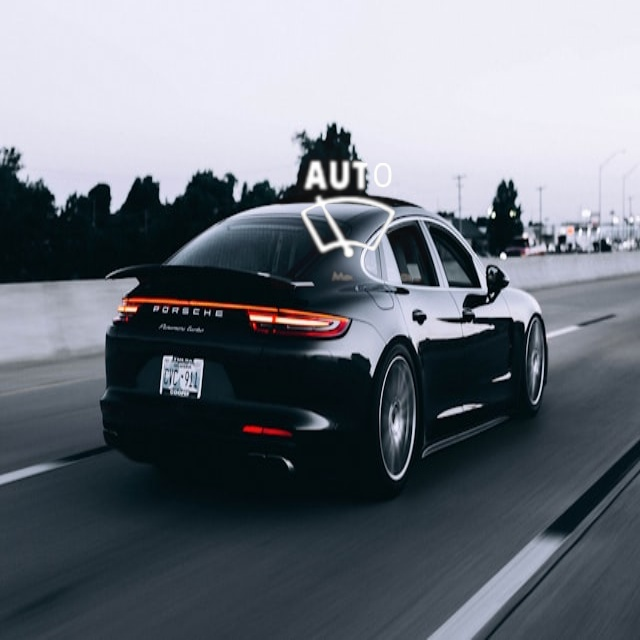symbol: (271, 133, 427, 289)
